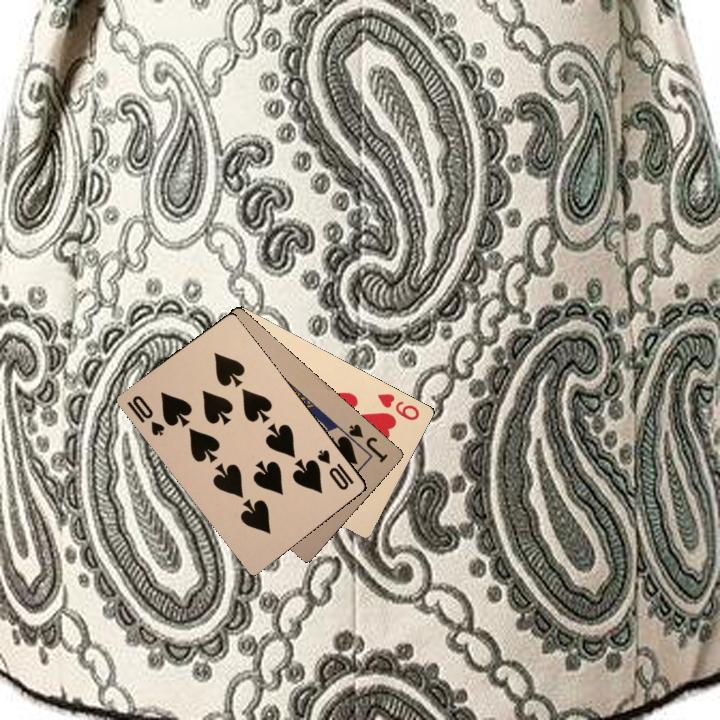10s: (123, 391, 167, 438), (313, 445, 356, 493)
9h: (373, 389, 422, 423)
Js: (341, 420, 390, 465)
